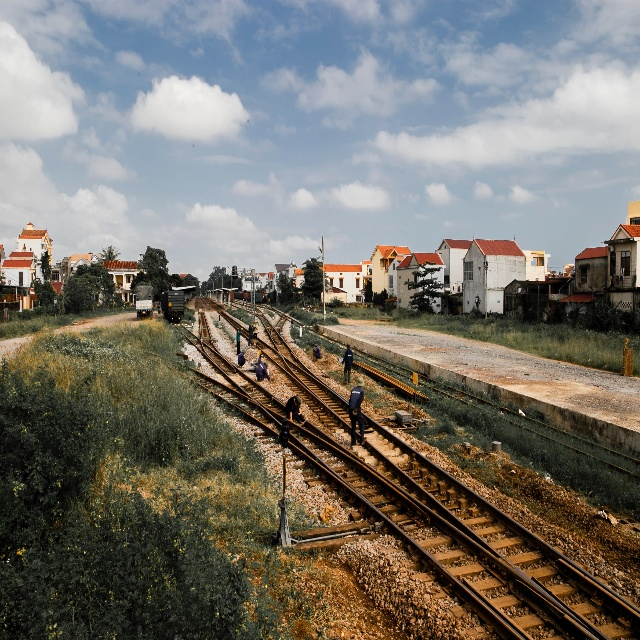Guantes: (352, 407, 357, 416)
